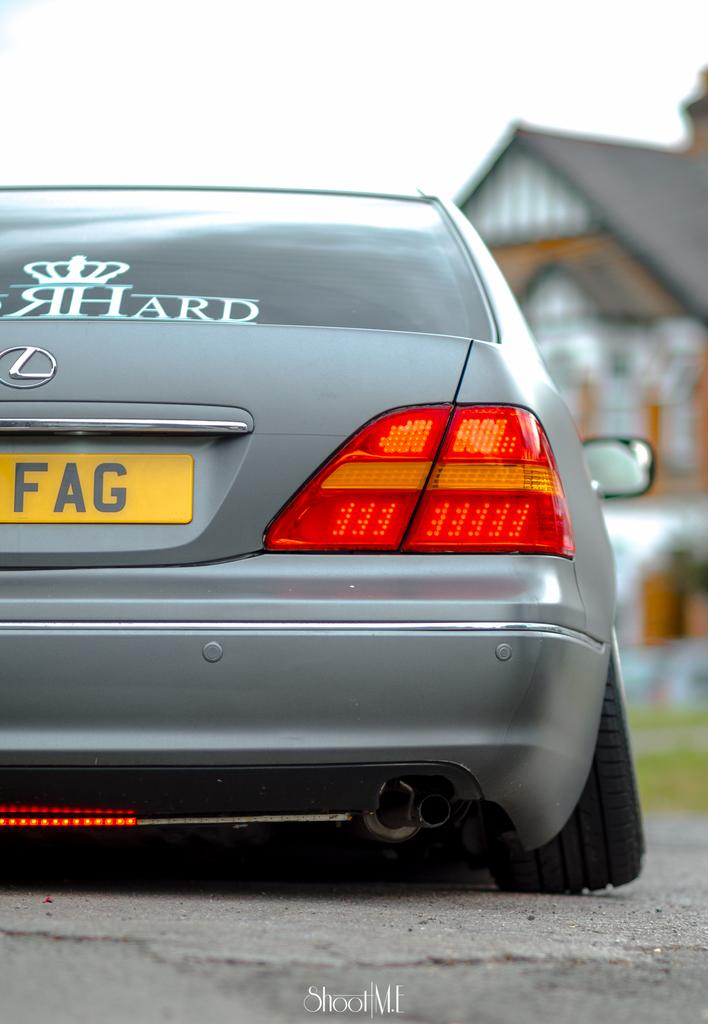Car: (0, 172, 661, 900)
